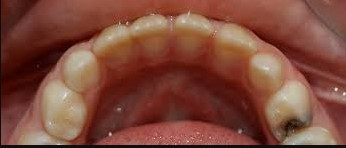LL1BC_decay: (263, 81, 315, 134)
LLCI_healthy: (172, 15, 211, 58)
LLC_healthy: (250, 55, 284, 89)
LLLI_healthy: (213, 23, 256, 65)
LR1BC_healthy: (43, 82, 88, 140)
LRCI_healthy: (132, 15, 170, 57)
LRC_healthy: (61, 50, 100, 91)
LRLI_healthy: (96, 26, 137, 65)
